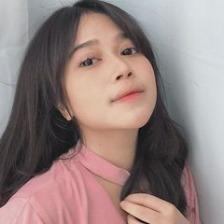Non hijab: (0, 0, 191, 222)
